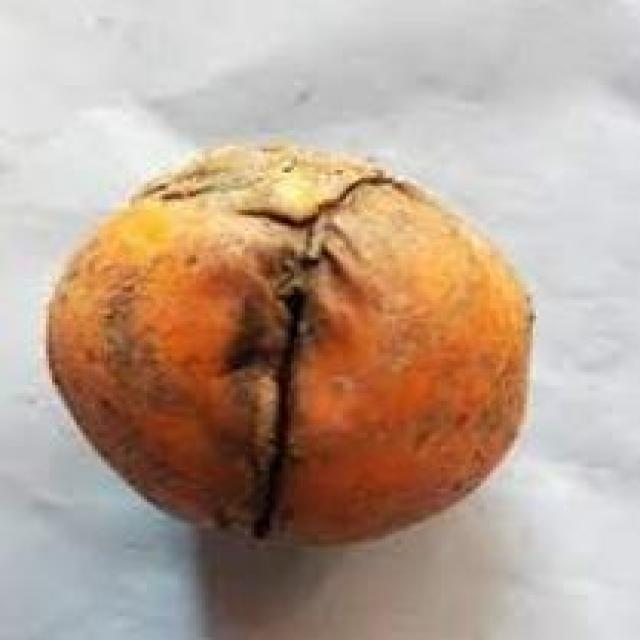damaged: (49, 143, 524, 542)
